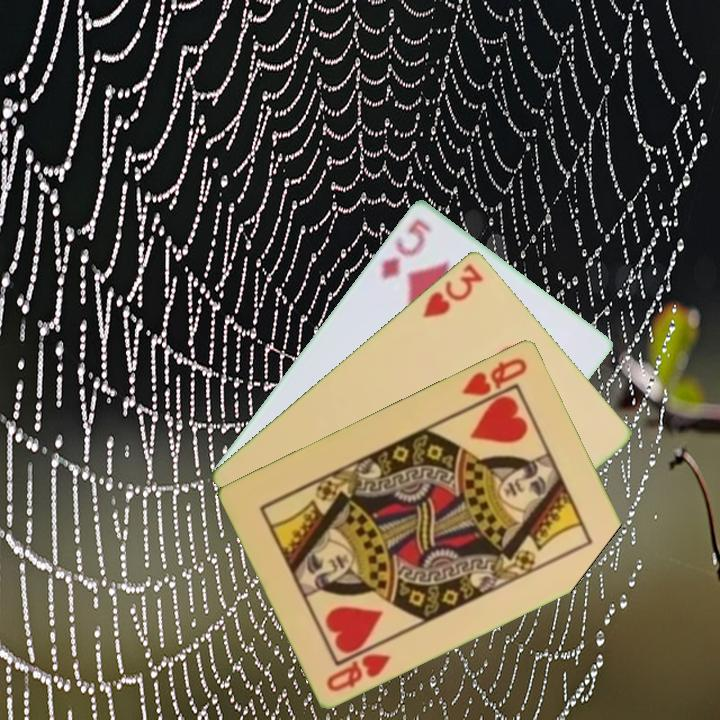3h: (419, 260, 486, 320)
5d: (377, 215, 435, 282)
Qh: (458, 353, 531, 399), (323, 649, 394, 694)
